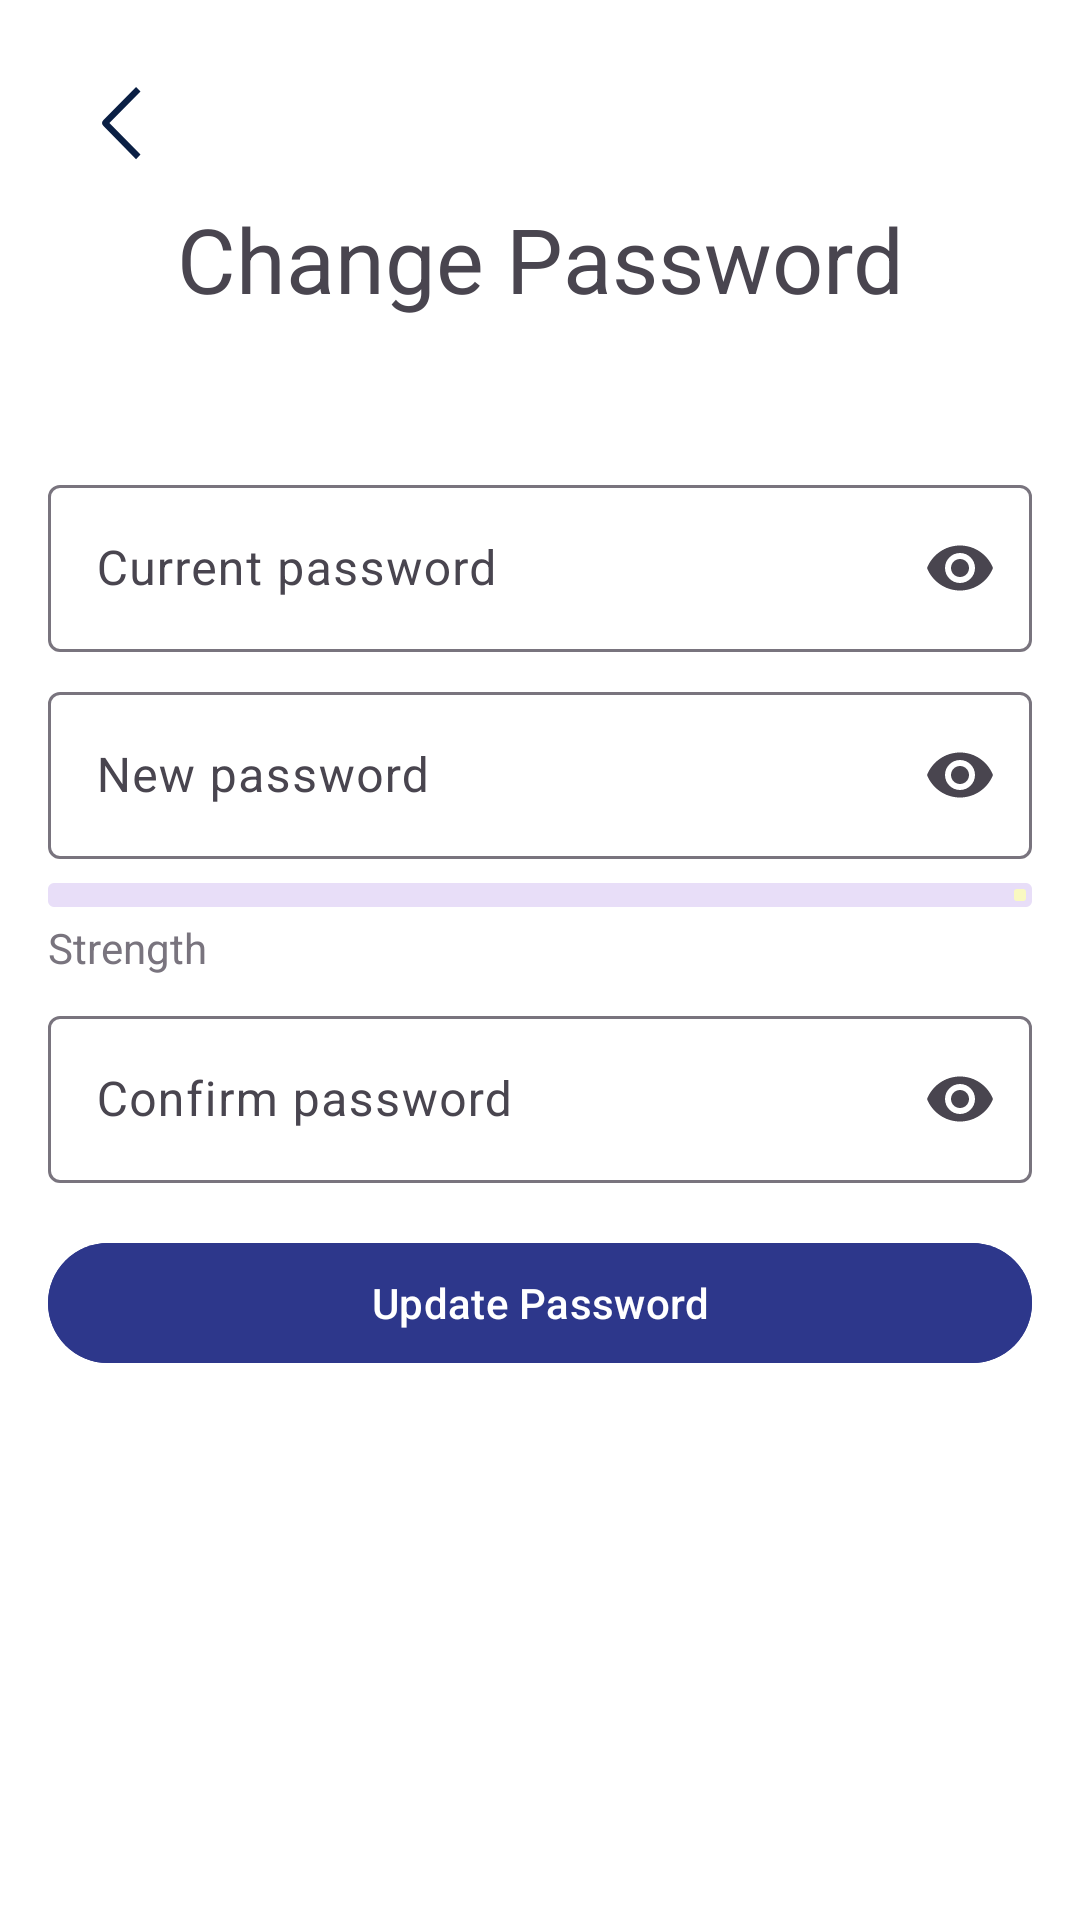

Locate icon controls on the screen. Image size 1080px x 1920px, boxes as BBox(x1, y1, x2, y2).
backbuttonblack: BBox(102, 87, 141, 159)
